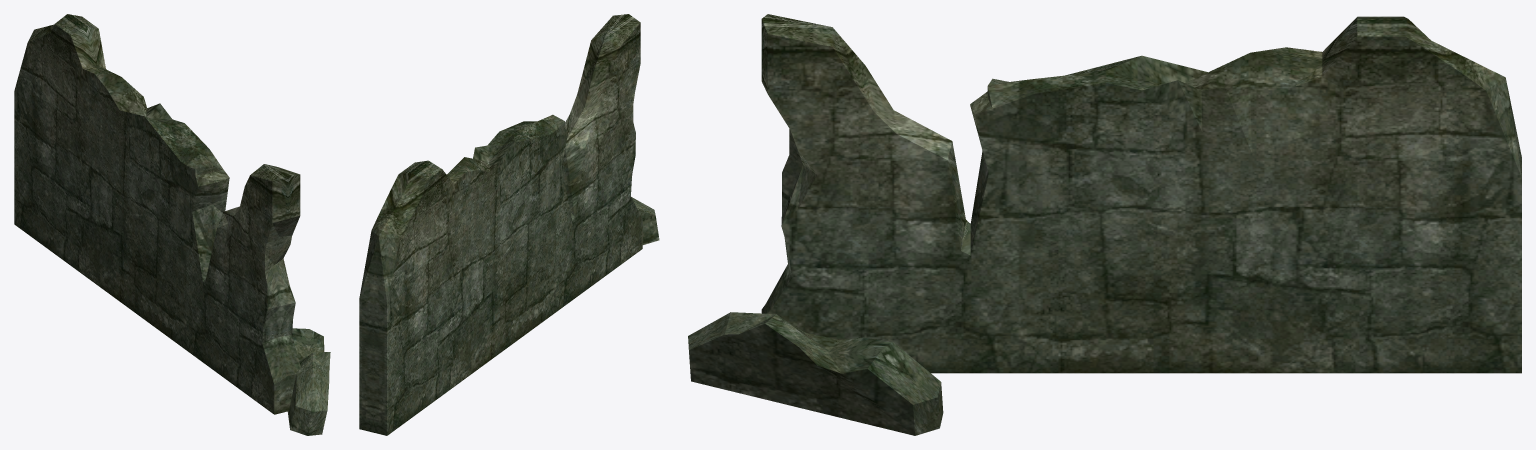
Rendered from thm_dant_jedi_wall_2_l0.fbx.
3 views of the same model, side by side, from view 1: azimuth 30°, elevation 25°; view 2: azimuth 150°, elevation 25°; view 3: azimuth 270°, elevation 25° (orthographic). The views are drawn at different scales.
Visible parts, largest first — view 1: mesh_node; view 2: mesh_node; view 3: mesh_node.
Boxes of the visible parts, x1=… form: mesh_node: x1=14, y1=14, x2=330, y2=435; mesh_node: x1=359, y1=14, x2=659, y2=435; mesh_node: x1=688, y1=14, x2=1521, y2=435.
Size of the model in its own units: 1.72 by 4.2 by 8.78.
